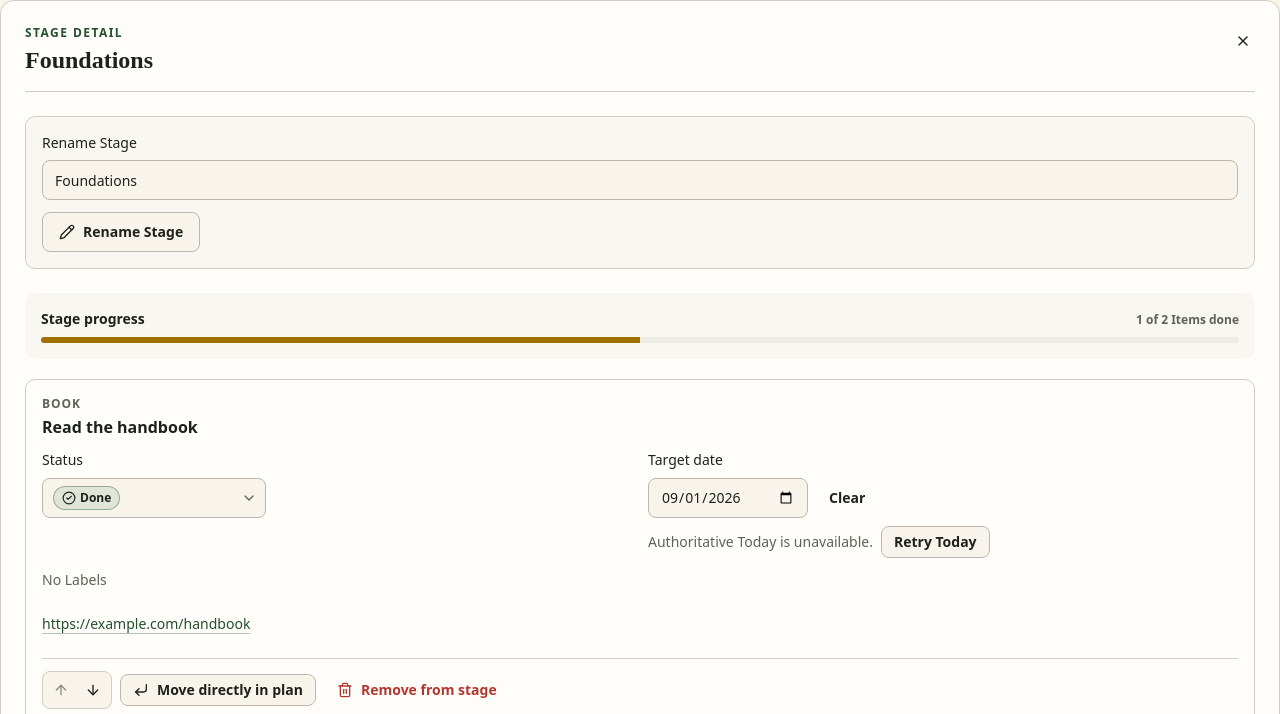
Test: Stage detail panel › does not describe a successful direct move as a mutation failure
Step 1. Click the button "Move directly in plan" → [218, 690], box left=120, top=674, right=316, bottom=706
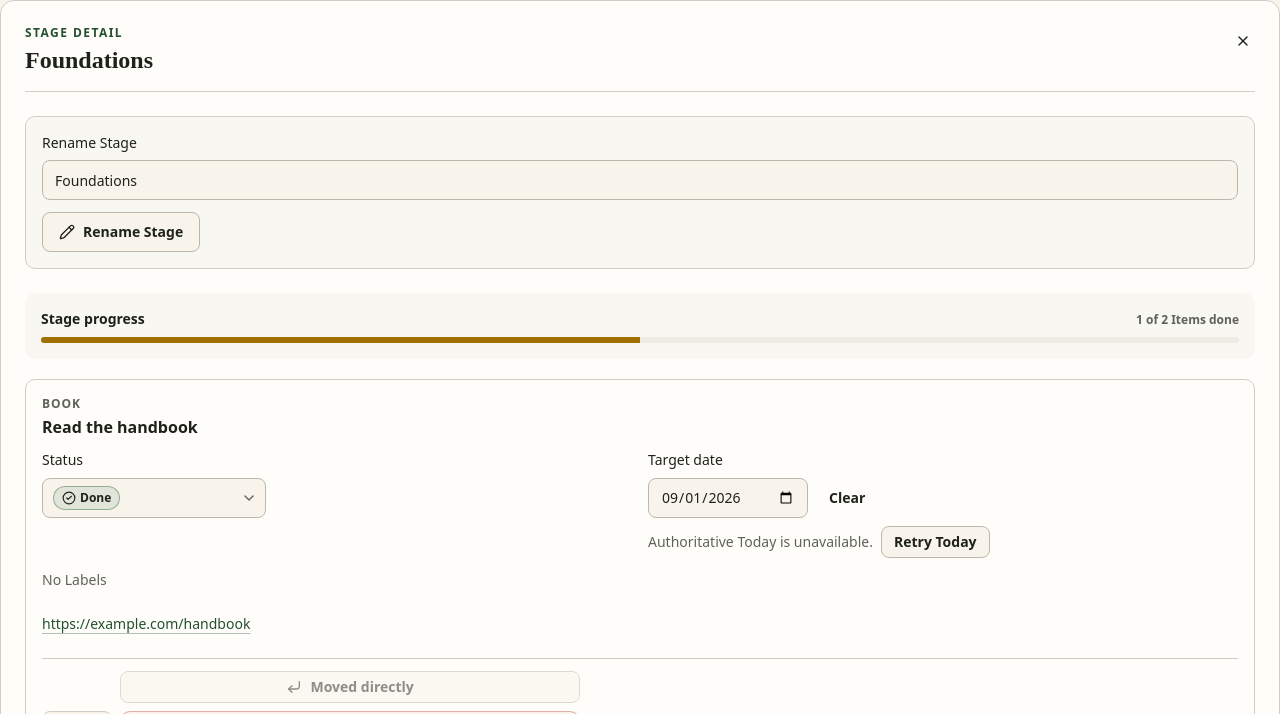
Check: the button named "Move directly in plan" reads "Moved directly", box left=120, top=670, right=580, bottom=702
Check: the button named "Move directly in plan" is disabled, box left=120, top=670, right=580, bottom=702
